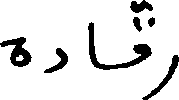ا: (86, 20, 94, 68)
ة: (0, 35, 30, 68)
د: (43, 46, 66, 74)
ر: (152, 4, 177, 96)
ق: (133, 0, 153, 99)
